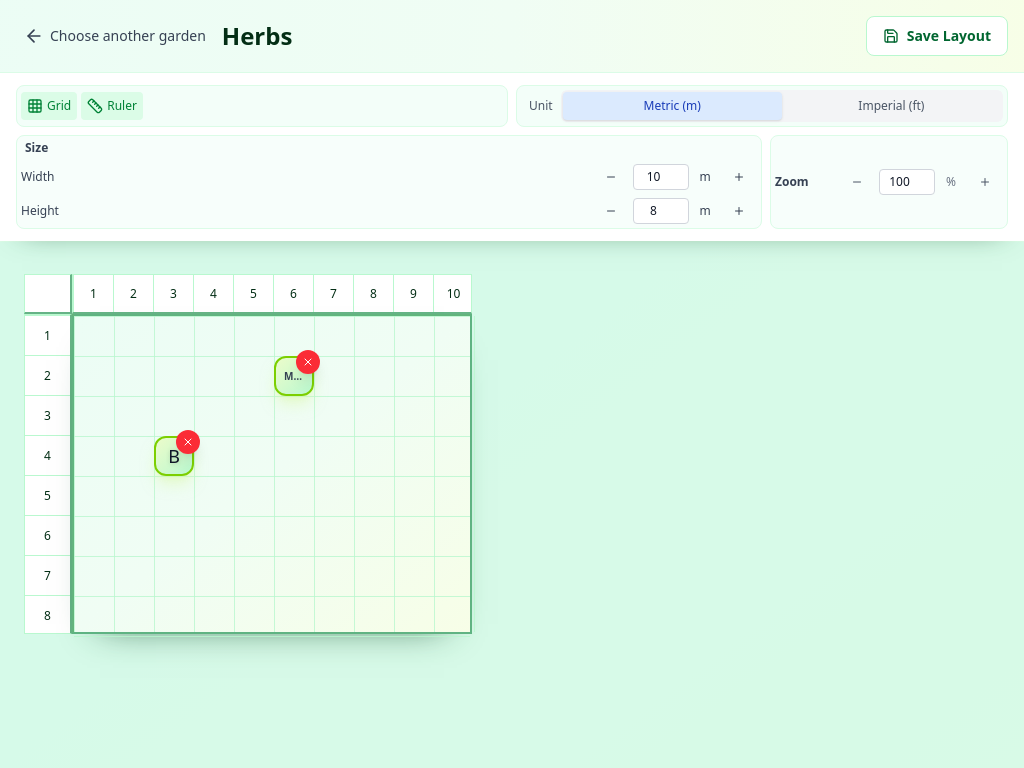
saves an explicitly empty layout together with new dimensions
Check: the button named "Remove Mint" is shown, box [296, 350, 320, 374]
Click the button named "Increase garden width": (739,177) [721, 167, 757, 187]
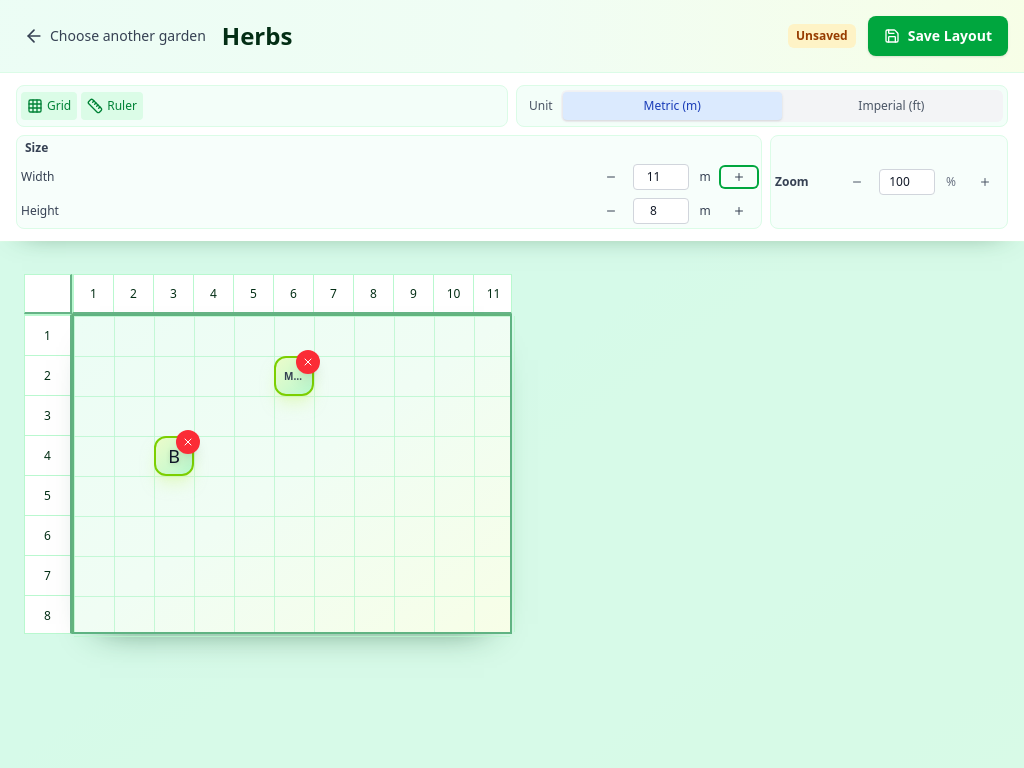
Click the button named "Remove Mint": (308,362) [296, 350, 320, 374]
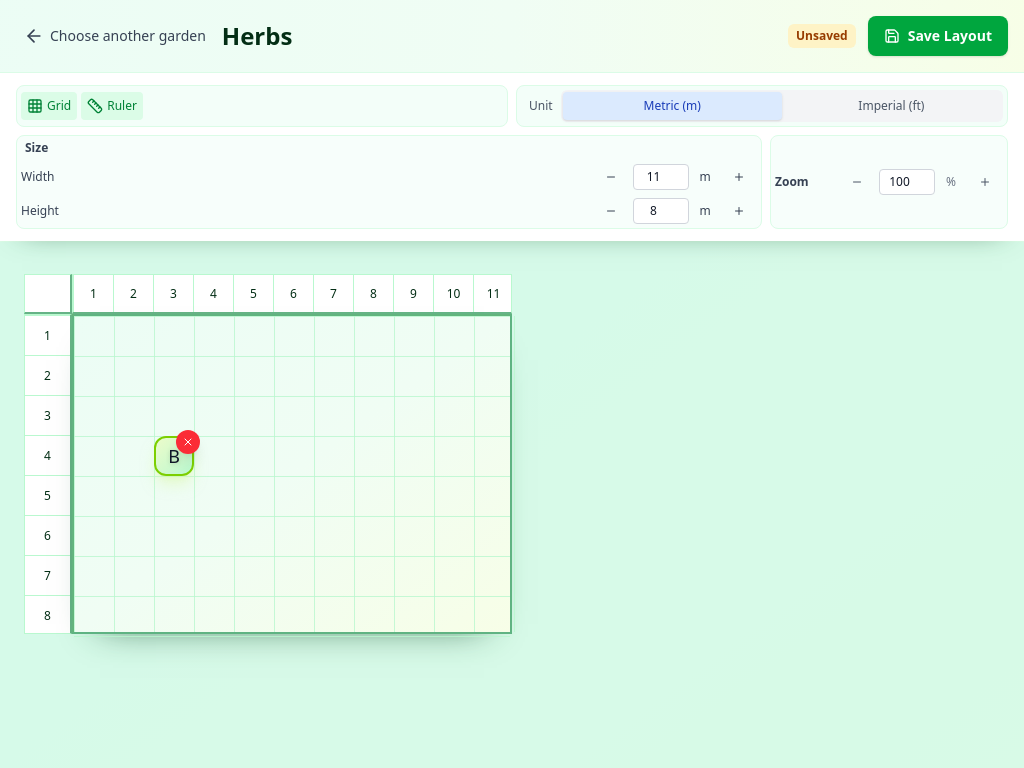
Click the button named "Remove Basil": (188,442) [176, 430, 200, 454]
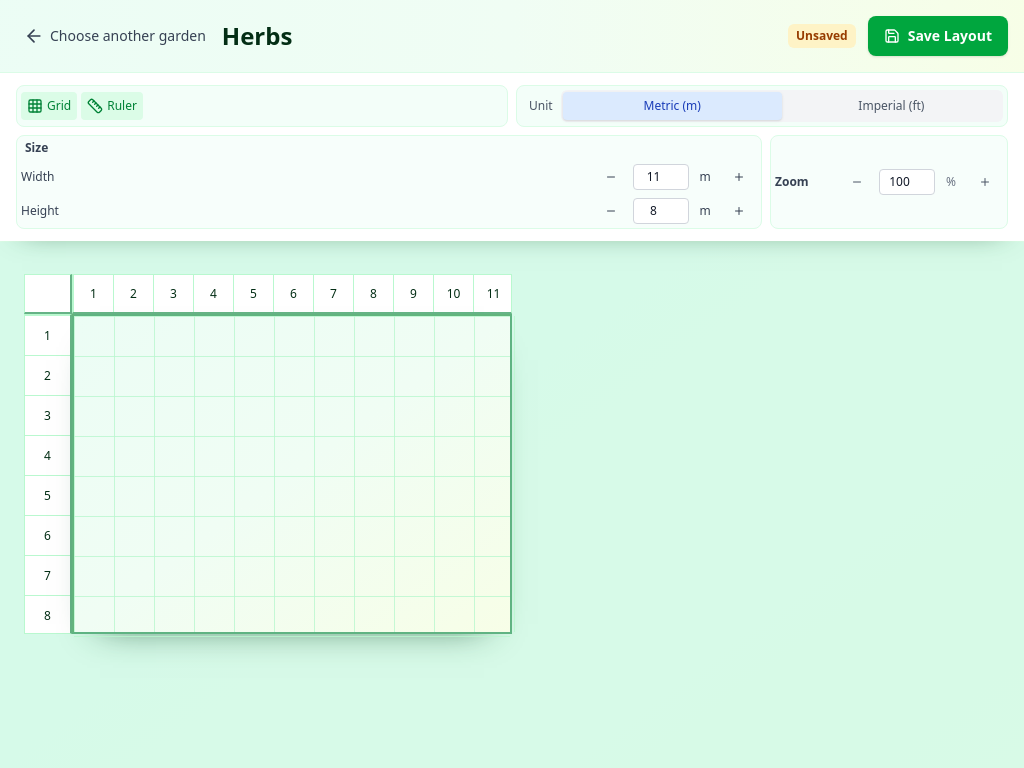
Click the button with aria-label "Save garden": (938,36) [868, 16, 1008, 56]
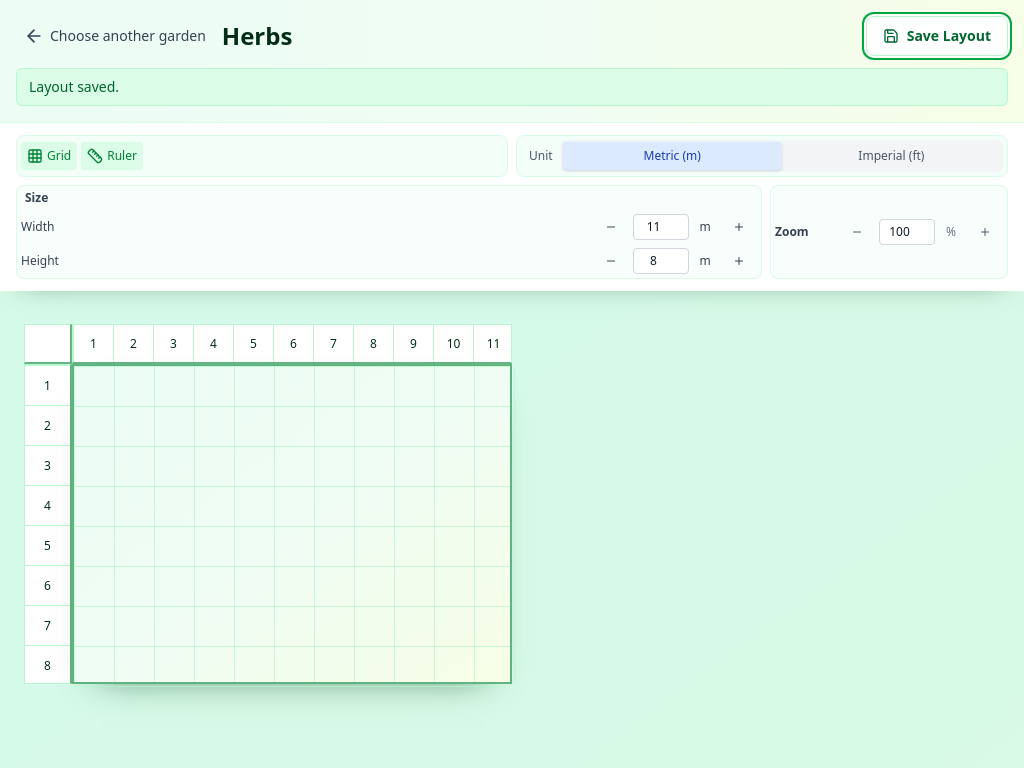
Check: the text "Layout saved." is shown, box [16, 68, 1008, 106]
